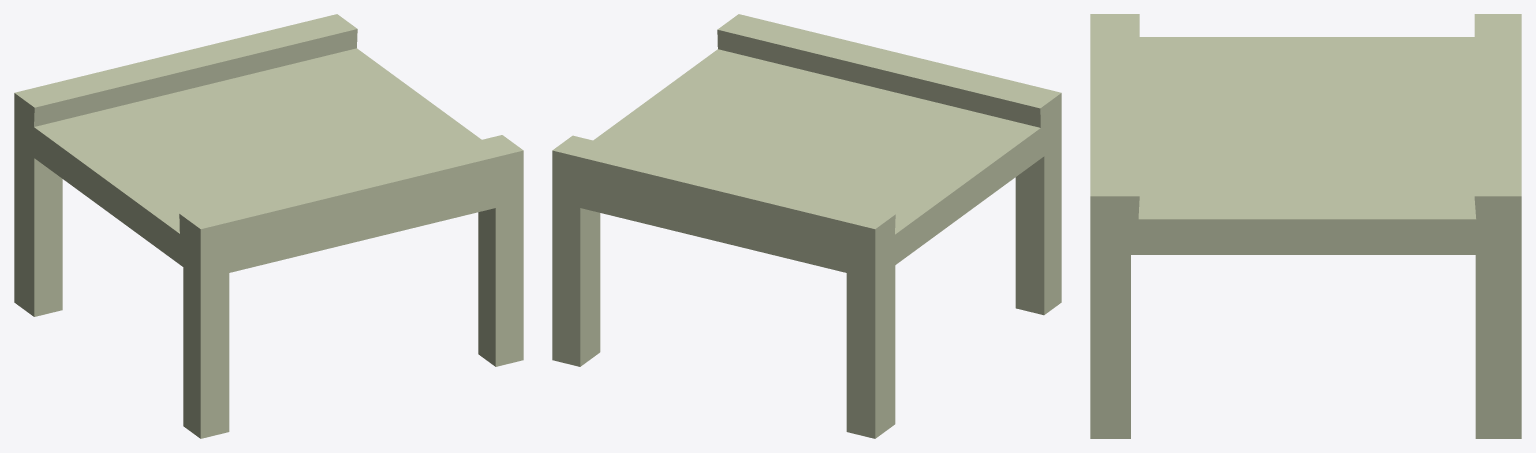
The model's file is ConveyorStraight01.obj.
The picture shows the model from 3 angles, left to right: view 1: azimuth 30°, elevation 25°; view 2: azimuth 150°, elevation 25°; view 3: azimuth 270°, elevation 25°; orthographic projection. The views are drawn at different scales.
Visible parts, largest first — view 1: Cube4; view 2: Cube4; view 3: Cube4.
Part boxes in pixels (left/top/right/bottom): Cube4: left=14, top=14, right=523, bottom=438; Cube4: left=552, top=14, right=1061, bottom=438; Cube4: left=1090, top=14, right=1521, bottom=438.
Bounding box in the file's own units: 1 × 0.6205 × 1.
